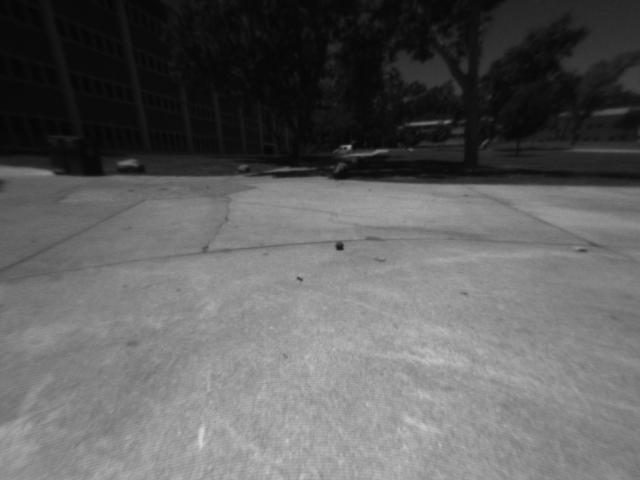dogtoy: (333, 236, 349, 253)
